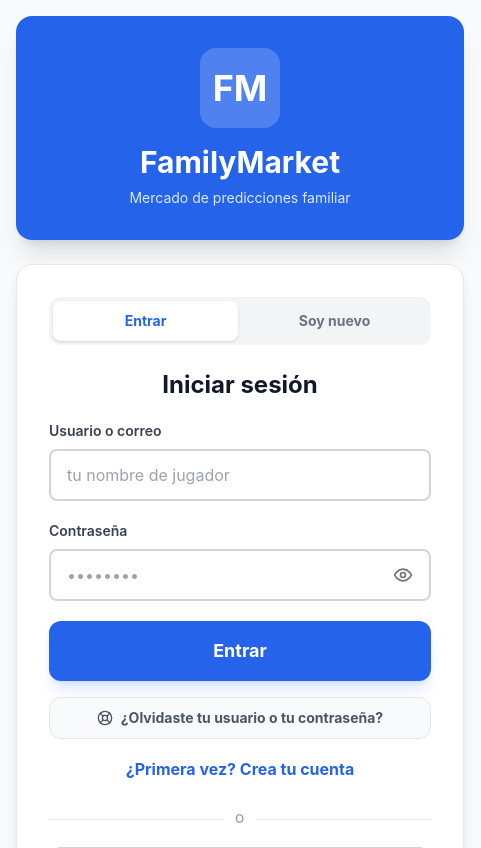
Test: Recuperar el acceso › quien olvidó su usuario o contraseña pide ayuda desde la pantalla de acceso (sin crear otra cuenta)
Click the button "¿Olvidaste tu usuario o tu contraseña?".
click(240, 718)  # box [49,697,431,739]
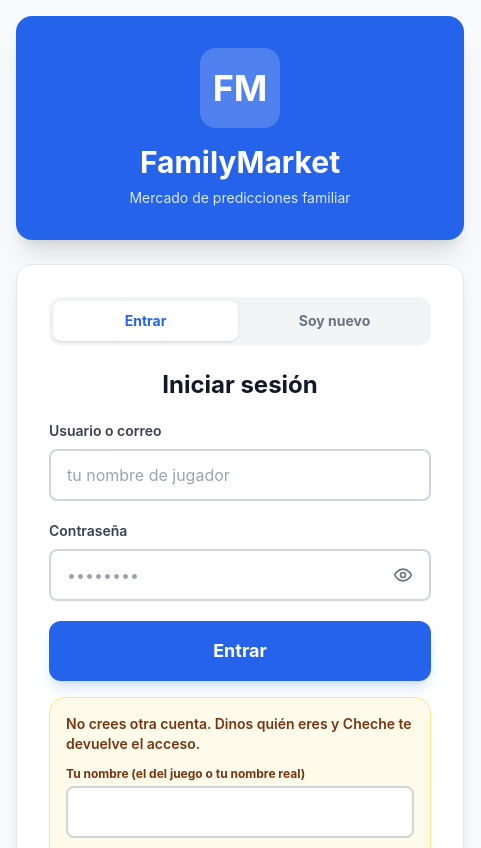
Result: the text "No crees otra cuenta" is shown at [66,715,412,752]
Type "Tomi" into the field labelled "Tu nombre (el del juego o tu nombre real)".
click(240, 812); type("Tomi")  # box [66,786,414,838]
(page scrolled)
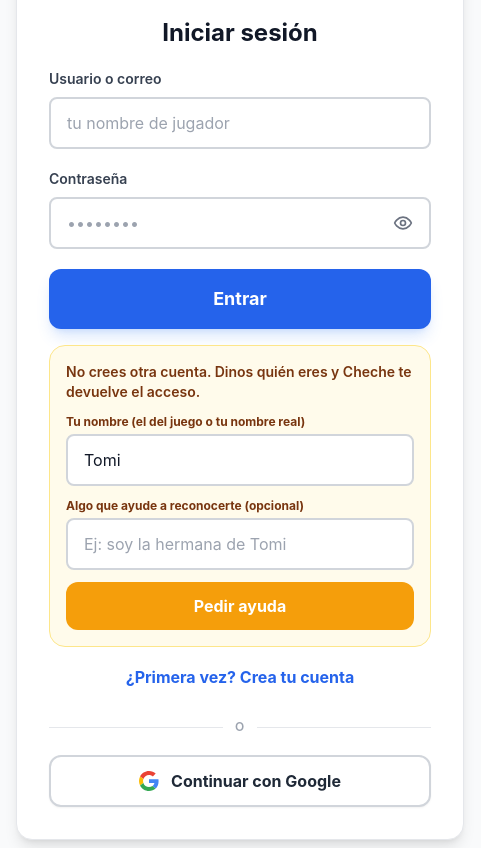
Click the button "Pedir ayuda".
click(240, 606)  # box [66,582,414,630]
(page scrolled)
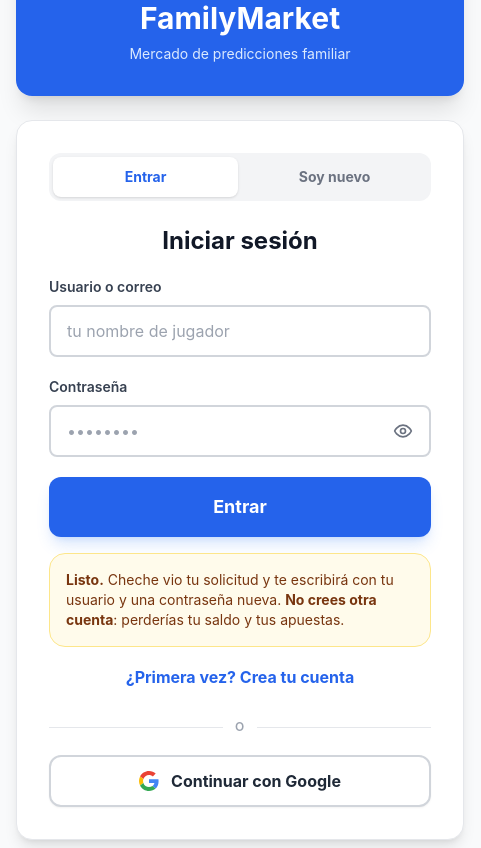
Result: the text "Cheche vio tu solicitud" is shown at [66,571,394,608]
